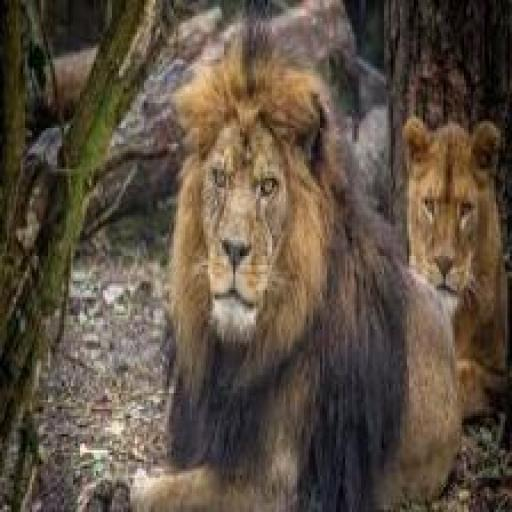lion: (167, 55, 403, 510), (400, 105, 510, 390)
